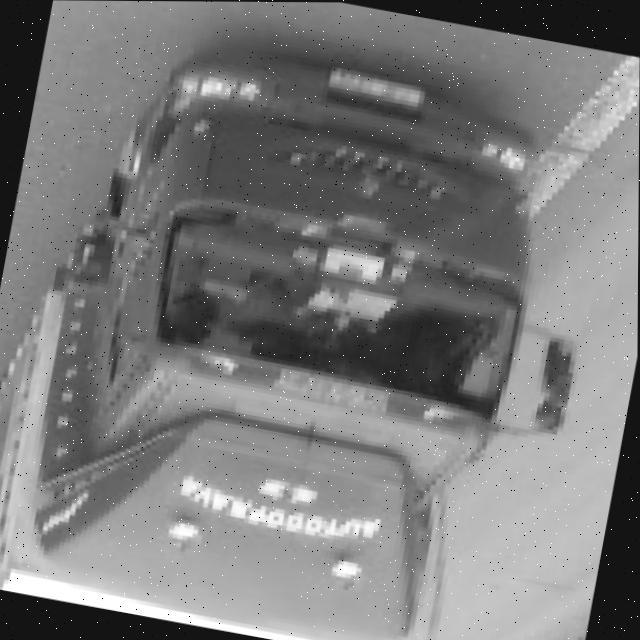truck: (0, 5, 611, 640)
